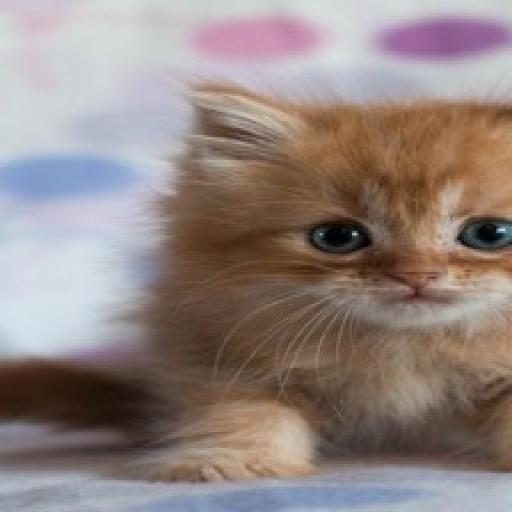cat: (0, 66, 512, 486)
